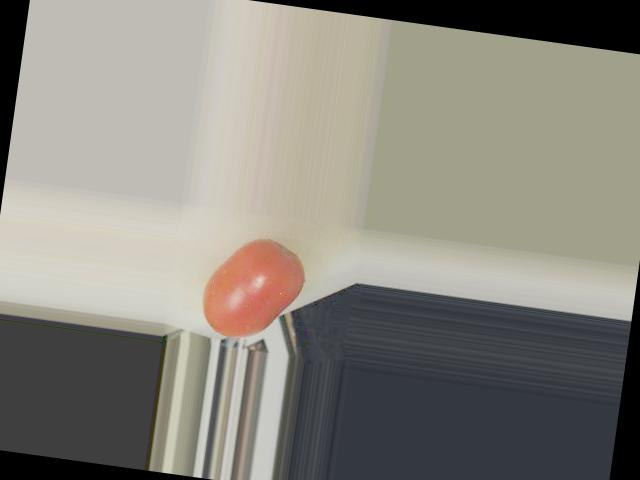tomato: (198, 231, 309, 346)
